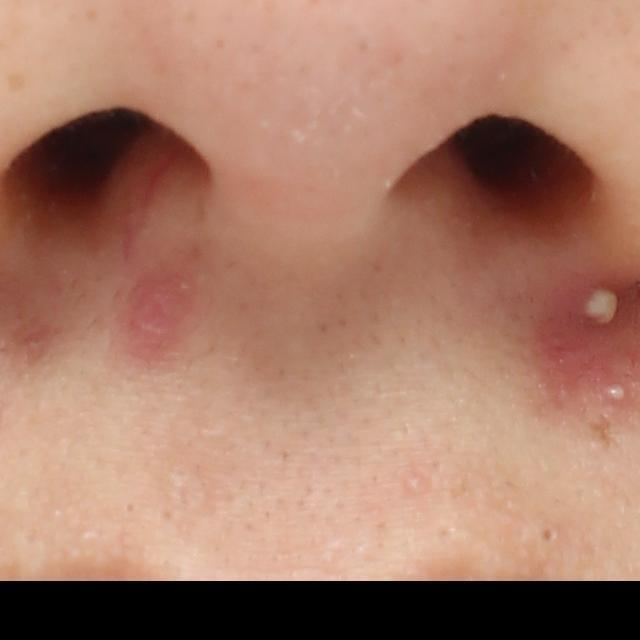comedo: (537, 524, 565, 548), (403, 473, 425, 496)
pustule: (574, 282, 630, 331), (600, 379, 632, 405)
